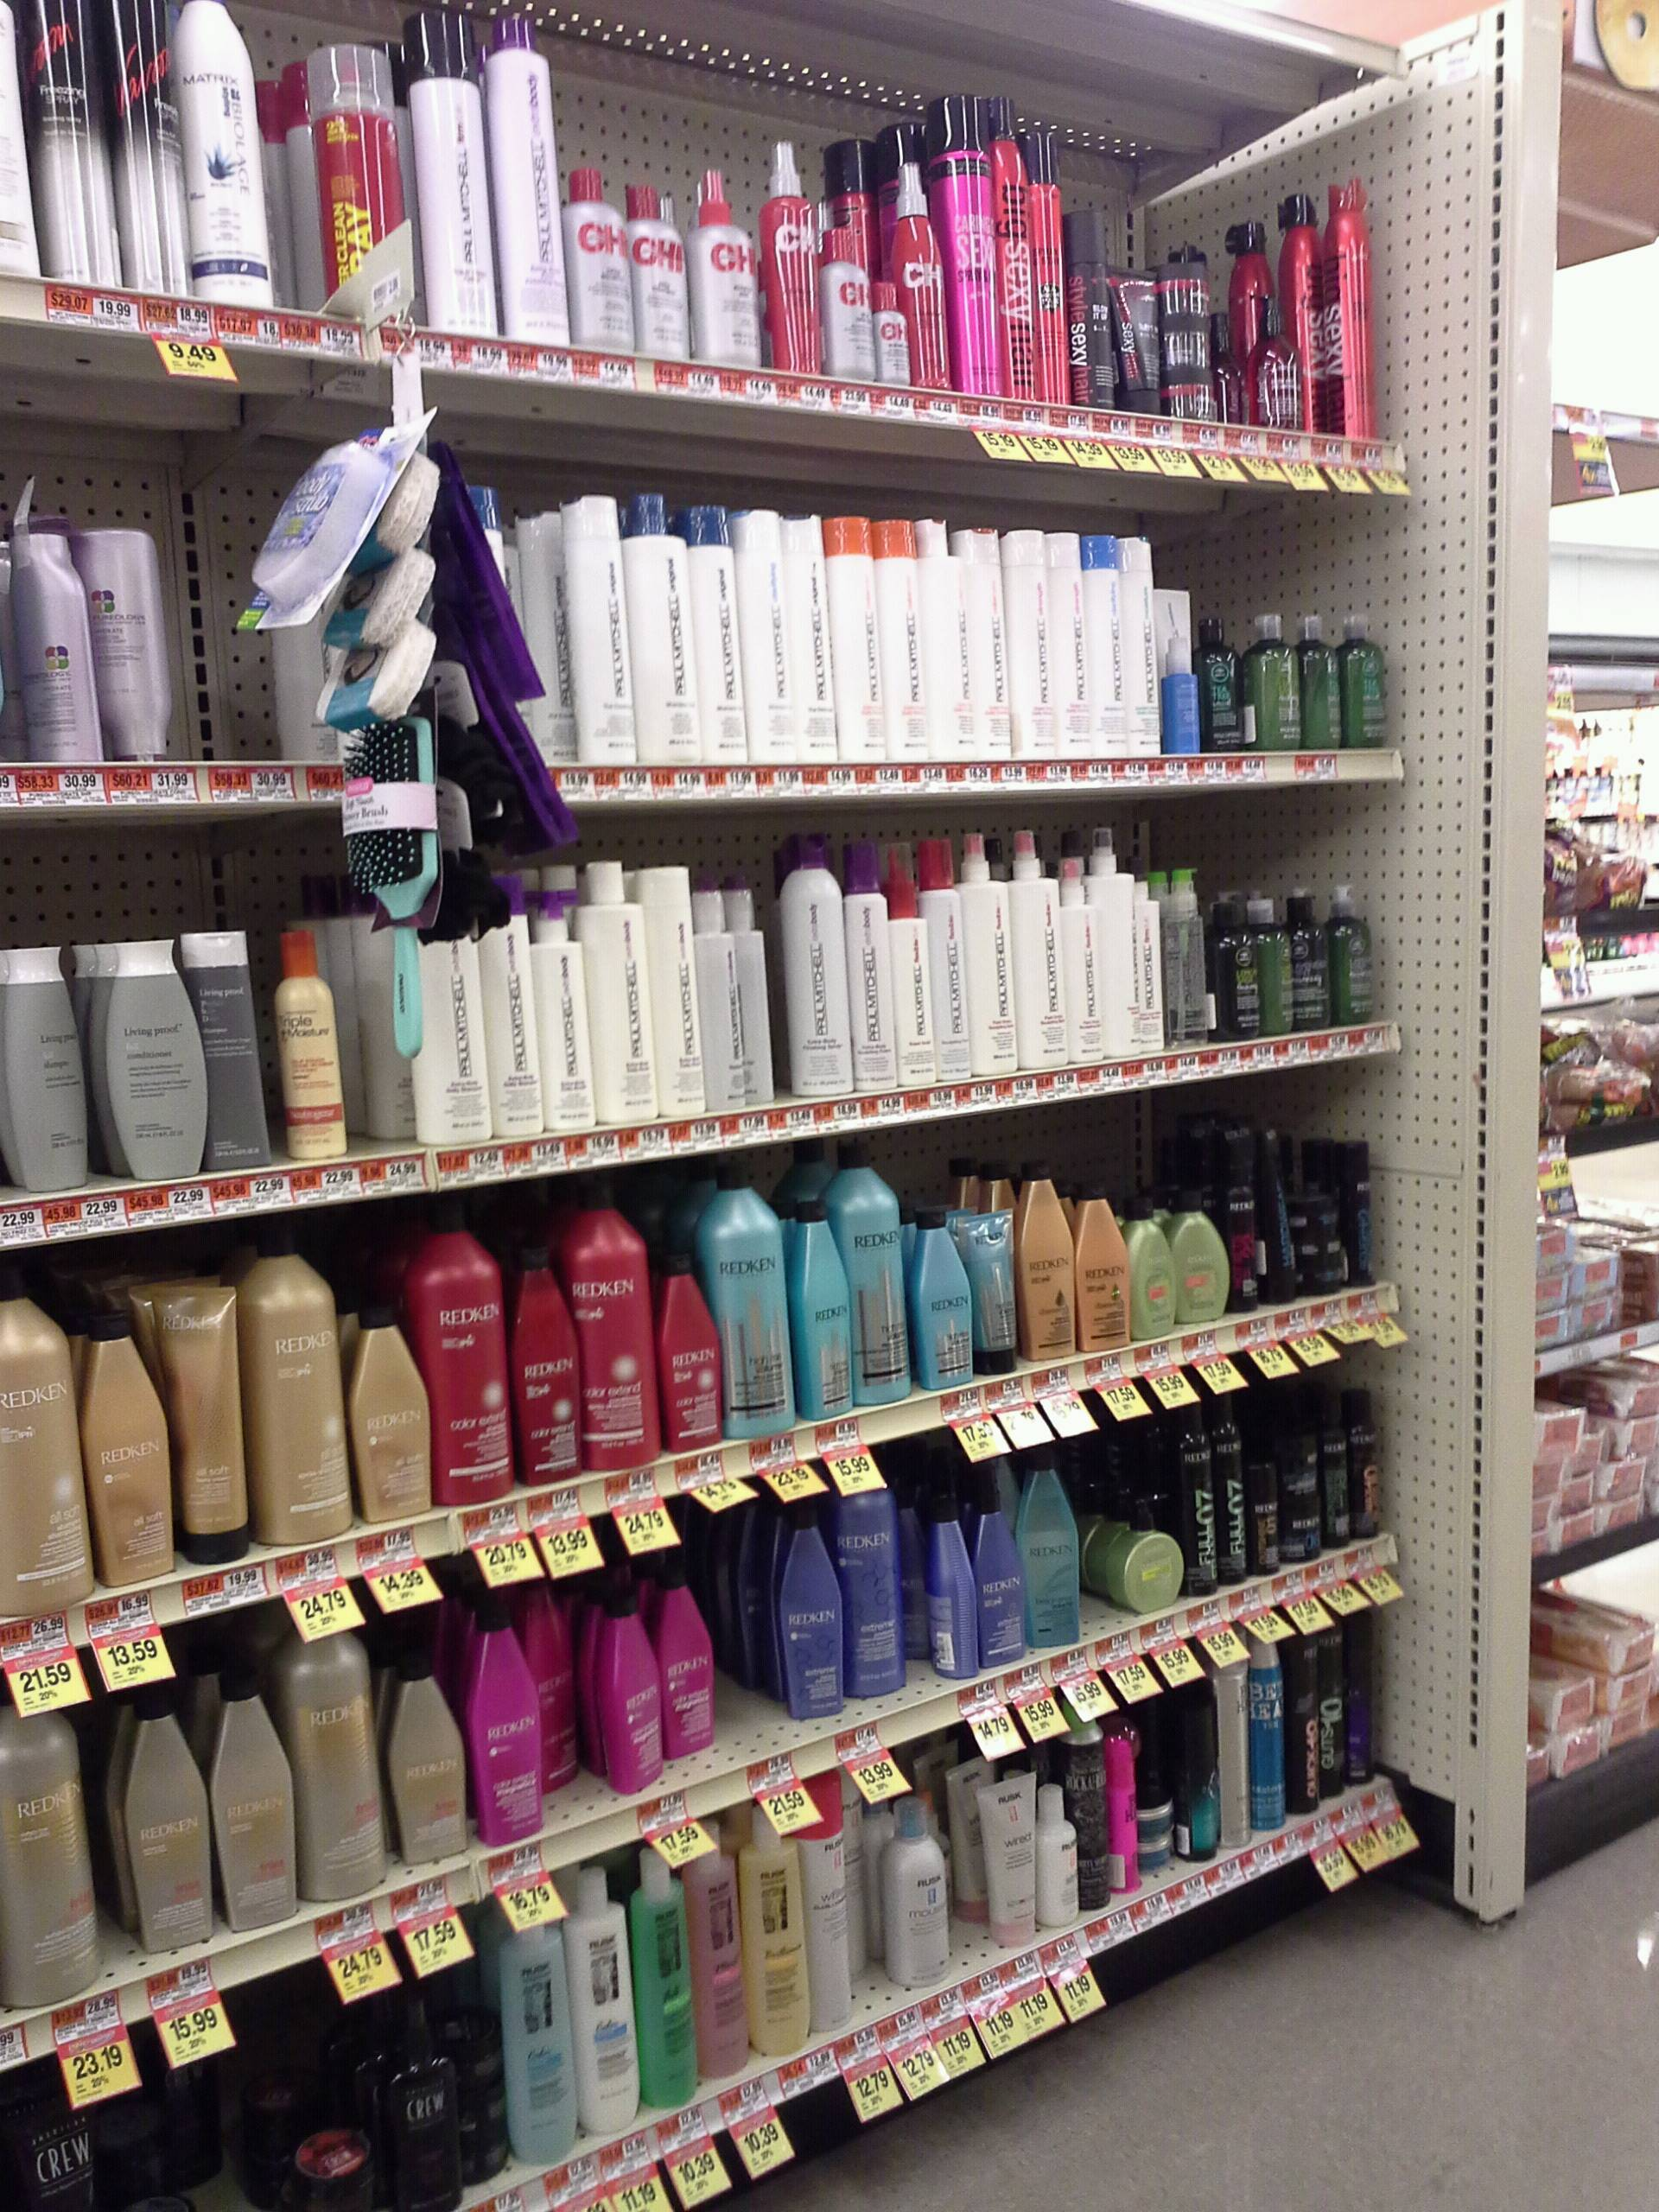Misplacement: (512, 1569, 601, 1853)
Out-of-stock: (171, 441, 295, 763), (718, 1508, 782, 1778)
